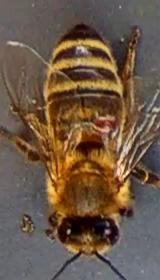varroa_mite: (78, 100, 117, 142)
